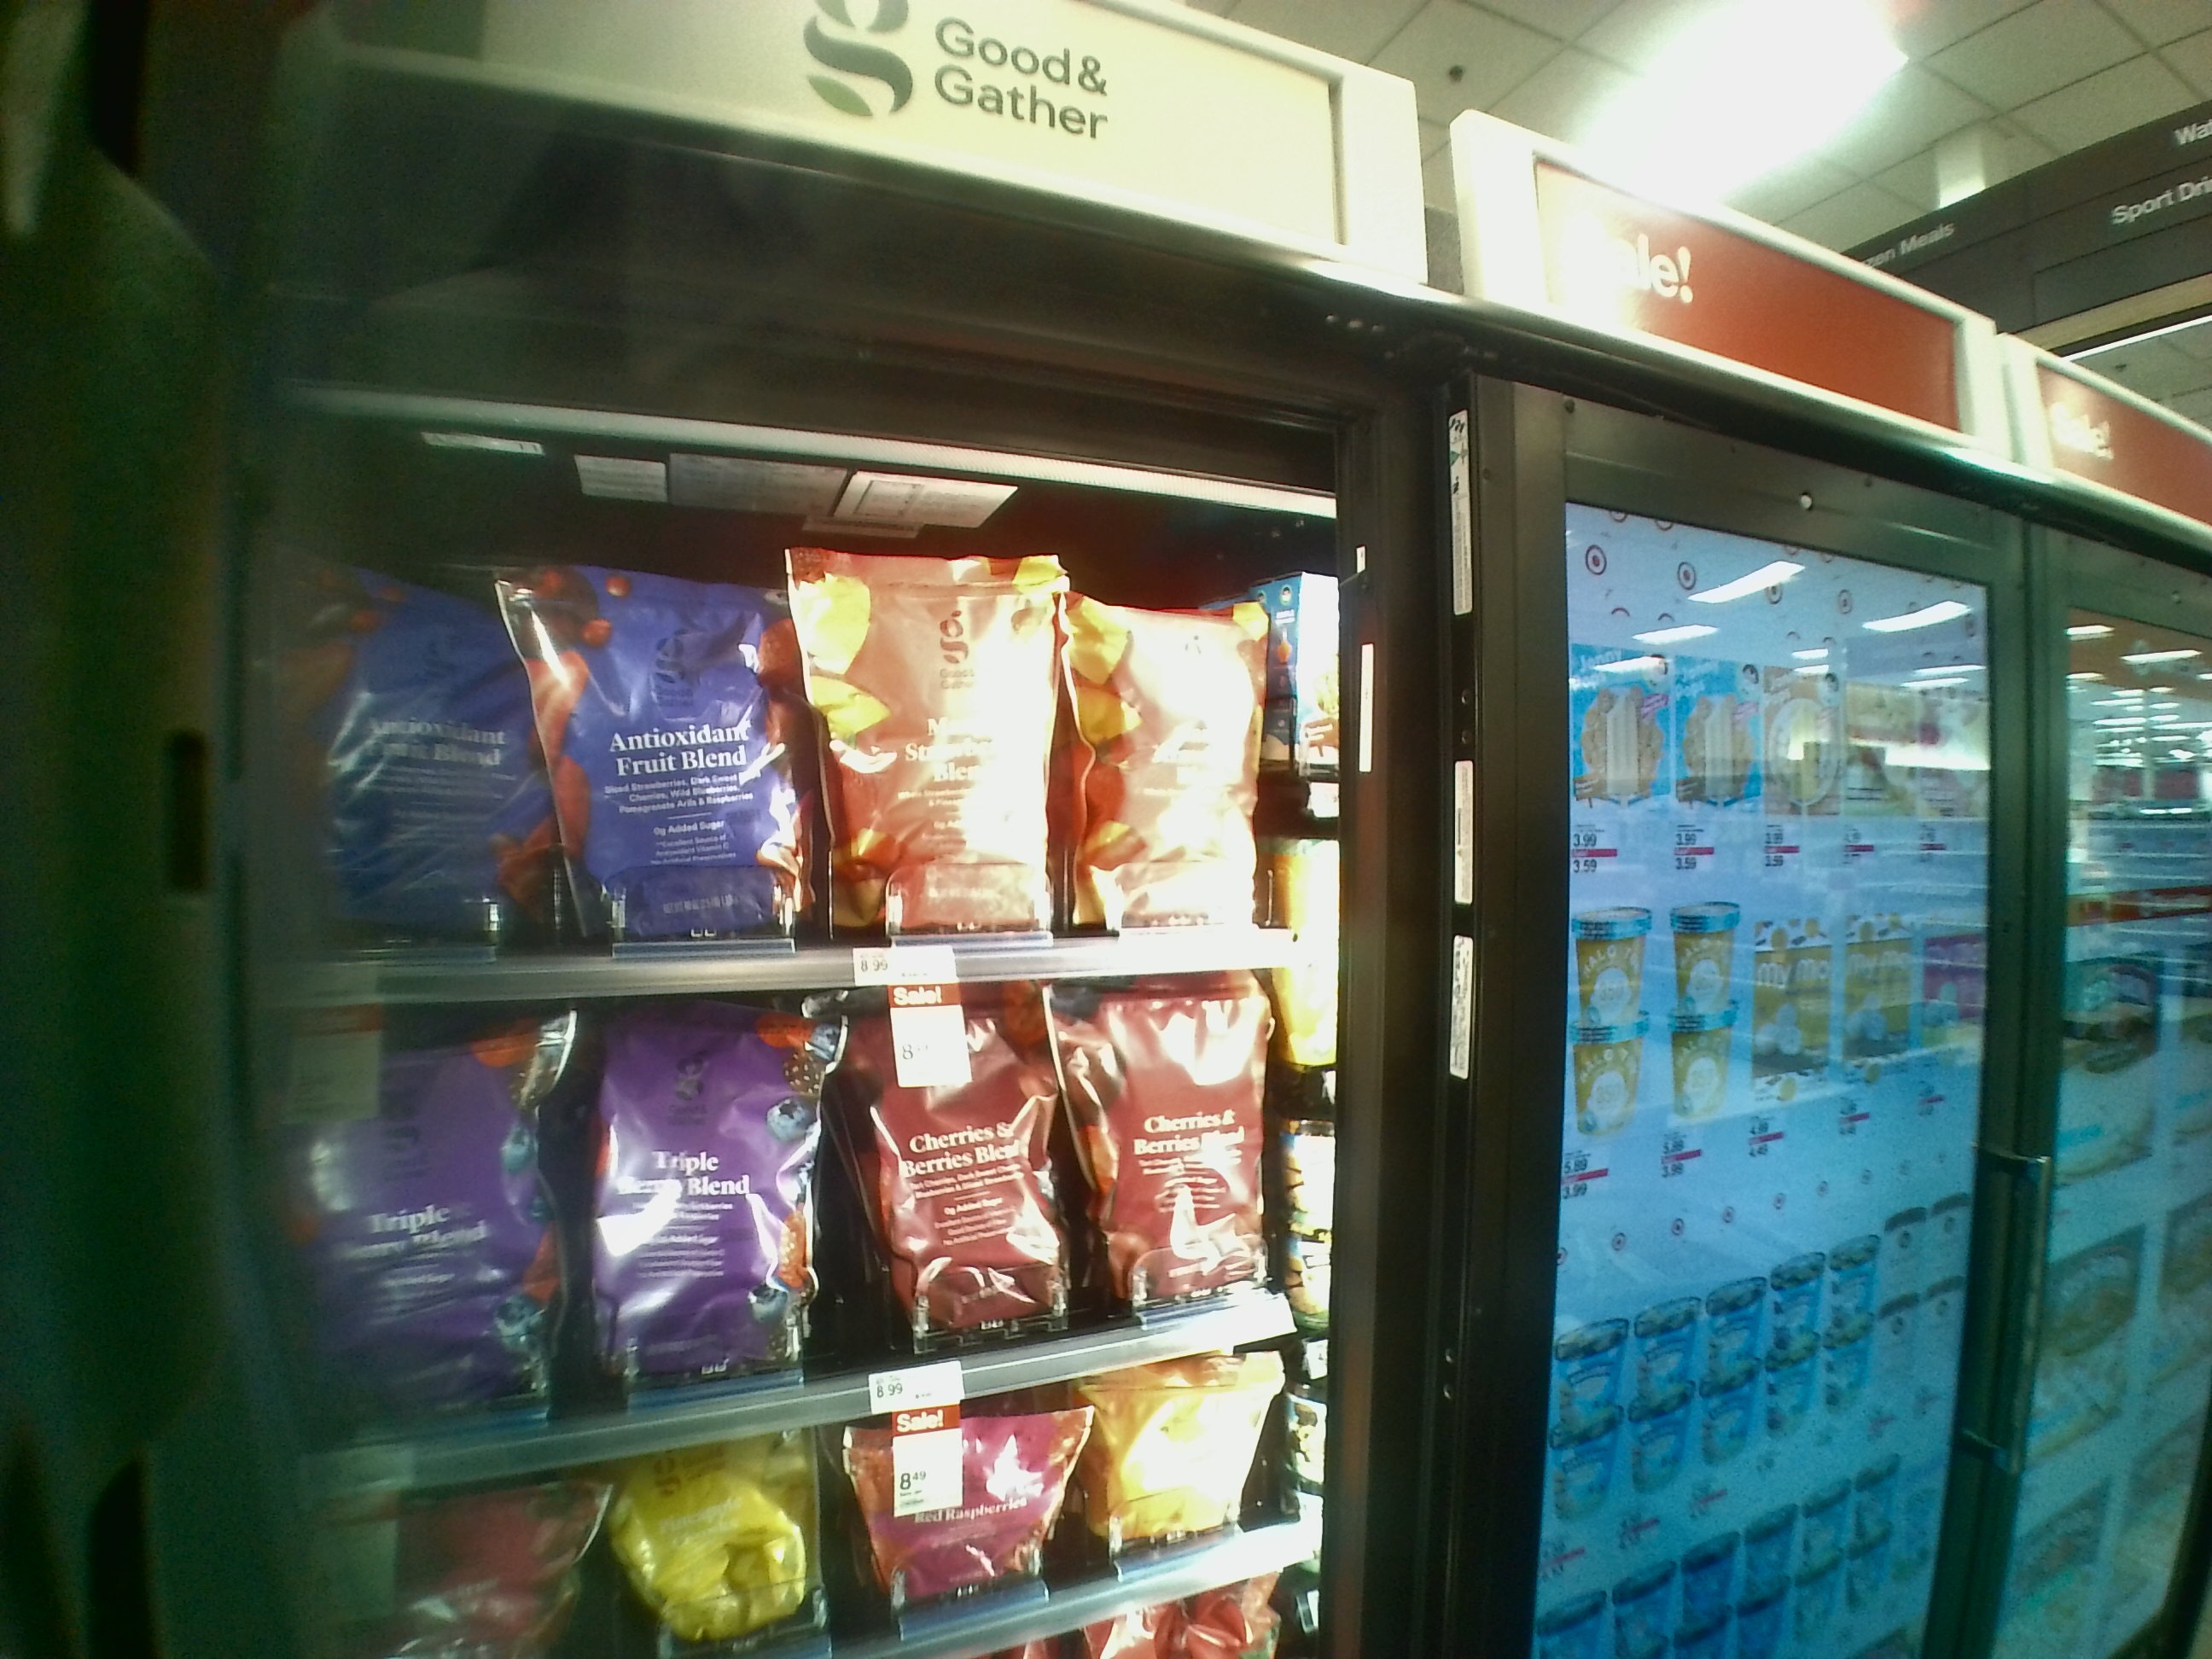shelf: (265, 476, 1332, 1000), (284, 974, 1325, 1413)
